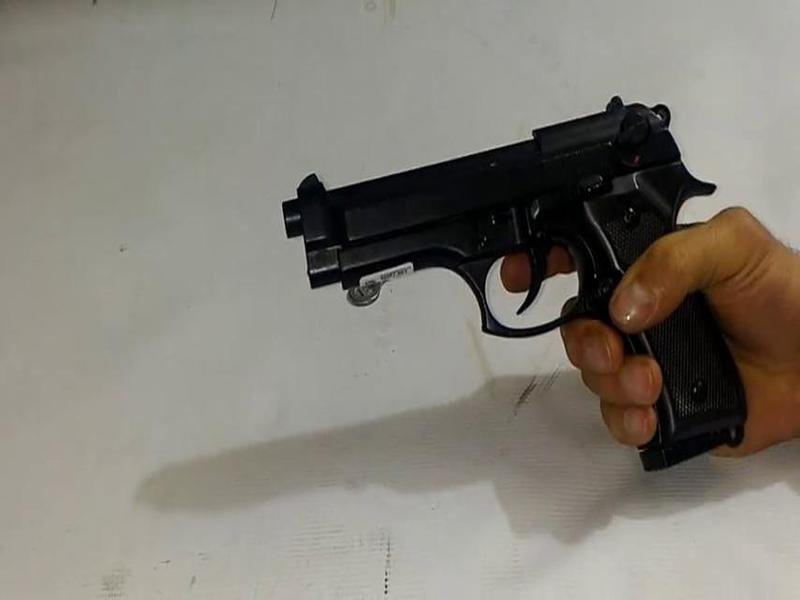Pistola: (253, 79, 749, 433)
